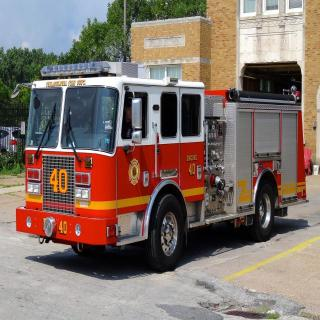Fire_truck: (11, 60, 309, 272)
